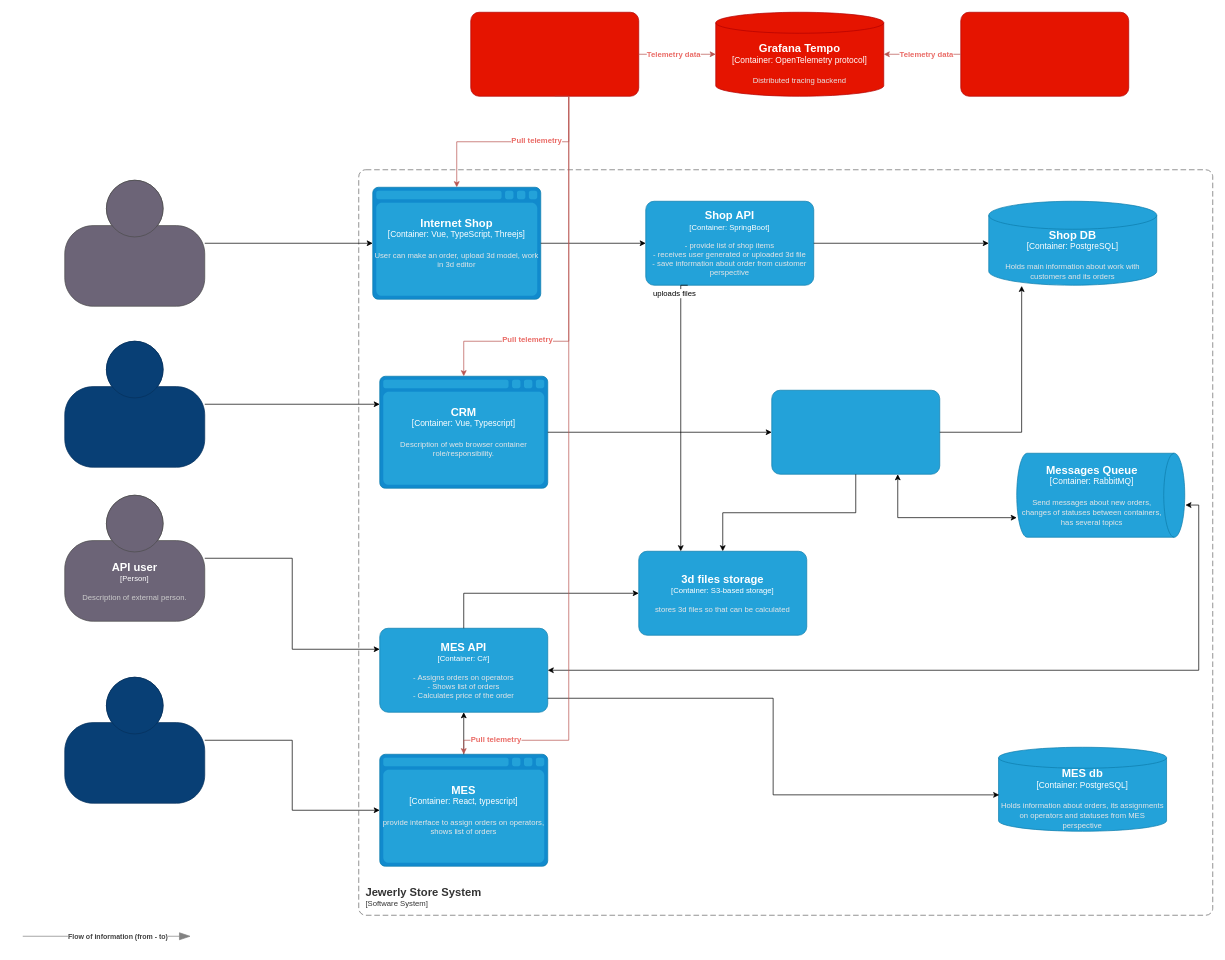
Image size: 1225x960. Some labels were removed from this diagram. Here are the shapes that lost their labels. From the top down, the centre of each, then its label:
point (554, 54): Grafana Alloy [Container: OpenTelemetry Collector] OTLP-compatible collector
point (1044, 54): Grafana UI [Container: Grafana] Traces, dashboards
point (134, 243): Customer [Person] Description of external person.
point (134, 404): Seller [Person] Operates with order, confirms manufacturing for the user
point (855, 432): CRM API [Container: SpringBoot] Description of container role/responsibility.
point (134, 740): Operator [Person] Takes order in work, manufactures jewerly
